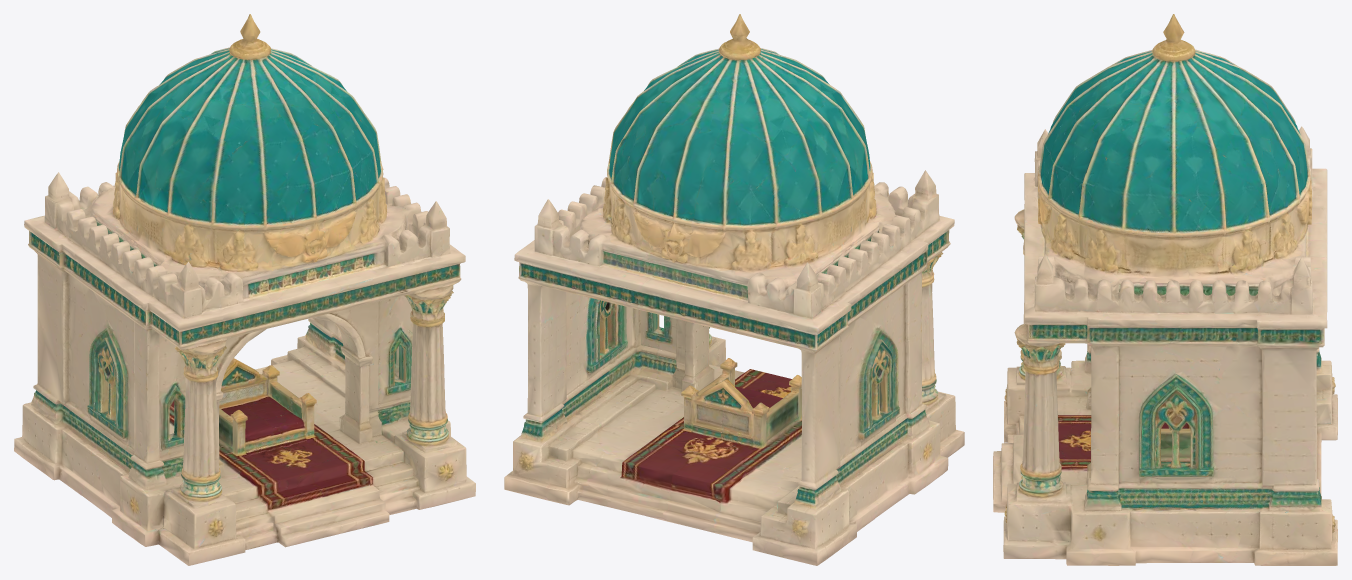
File: CourtHall.glb
The picture shows the model from 3 angles, left to right: view 1: azimuth 30°, elevation 25°; view 2: azimuth 150°, elevation 25°; view 3: azimuth 270°, elevation 25°; orthographic projection. The views are drawn at different scales.
Bounding box in the file's own units: 1.37 × 1.9 × 1.25.
Materials: 1 (1 with a texture image).
